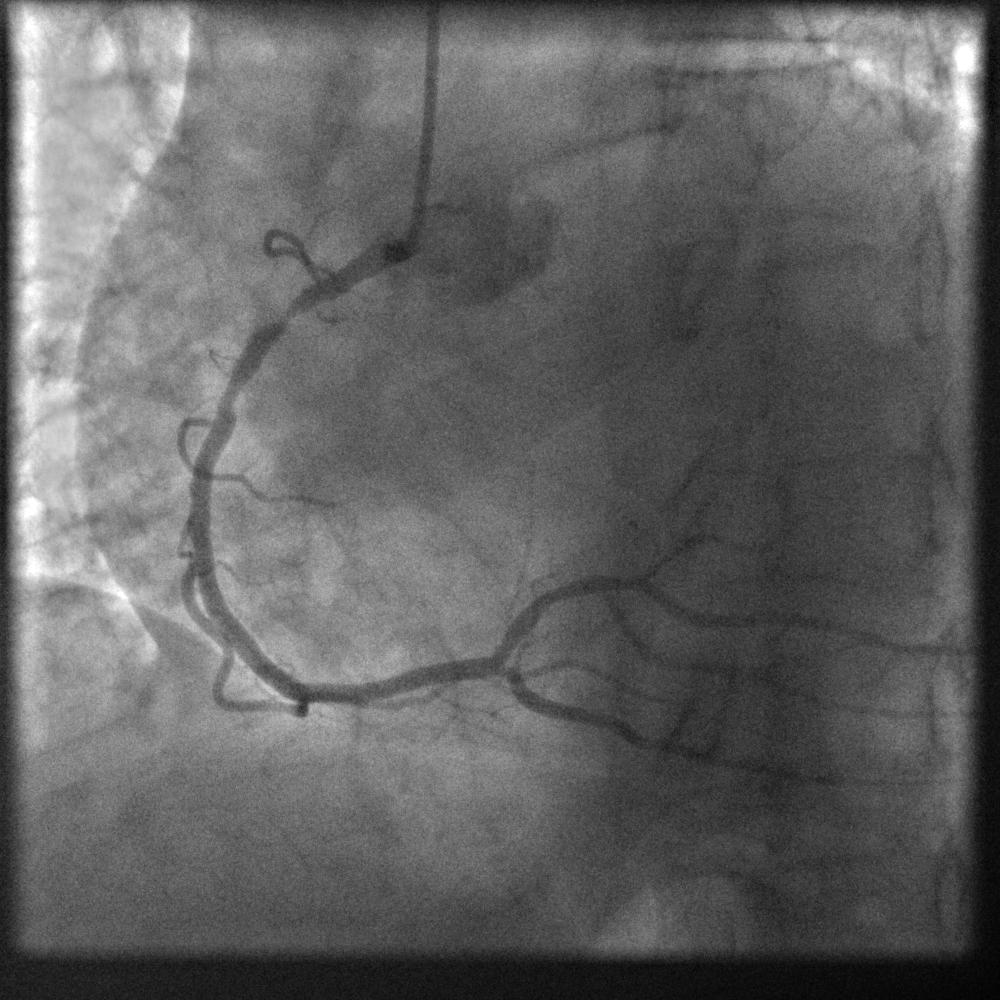Stenosis: (255, 290, 313, 337)
